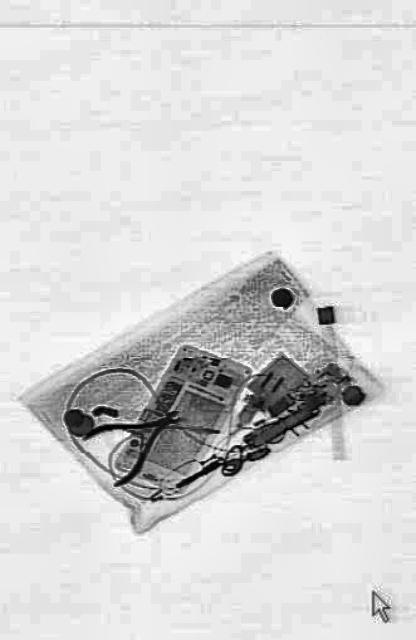Pliers: (80, 383, 186, 495)
